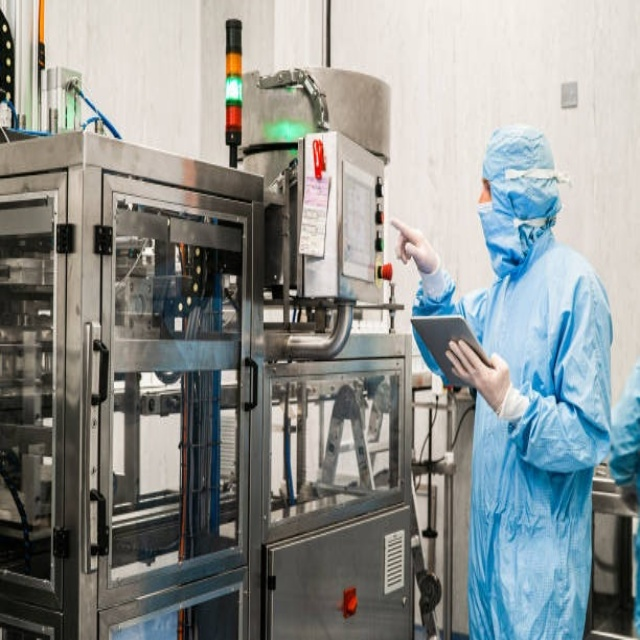Guantes: (444, 333, 512, 410), (392, 218, 441, 280)
Mascara: (478, 197, 528, 272)
